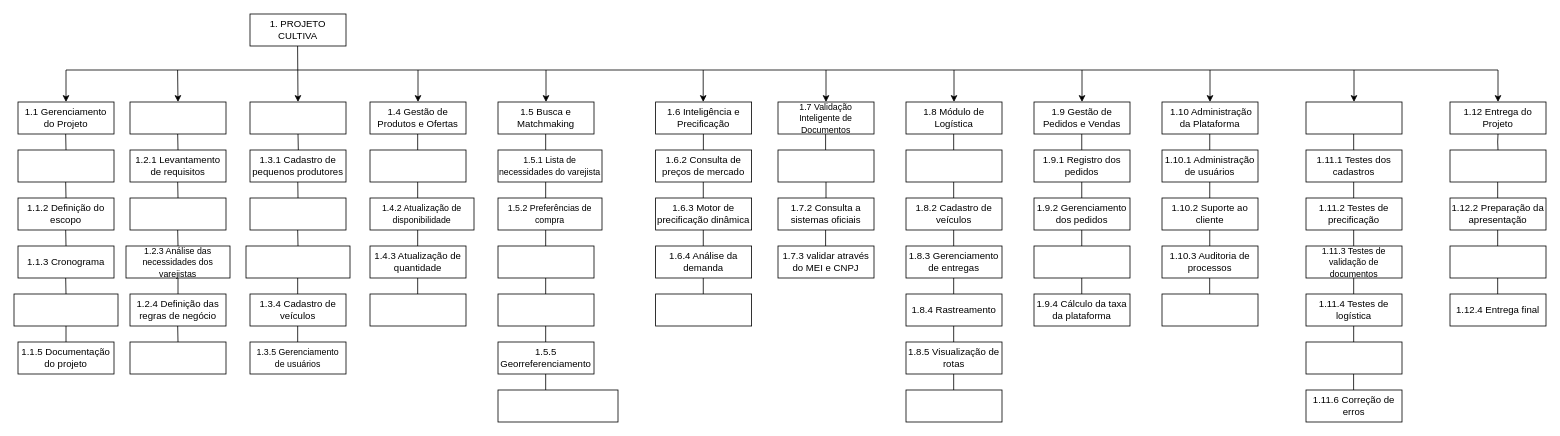
Image size: 1560x436. Some labels were removed from this diagram. The centre of each missing label's shape, as x and y in pixels:
"1.1.1 Planejamento do projeto" belongs at (65,165).
"1.1.4 Acompanhamento do projeto" belongs at (65,309).
"1.10.4 Controle administrativo" belongs at (1209,309).
"1.11 Testes e Validação" belongs at (1353,117).
"1.11.5 Testes administrativos" belongs at (1353,357).
"1.12.1 Documentação" belongs at (1497,165).
"1.12.3 Apresentação do projeto" belongs at (1497,261).
"1.2 Levantamento e Análise" belongs at (177,117).
"1.2.2 Análise das necessidades dos produtores" belongs at (177,213).
"1.2.5 Definição da arquitetura da solução" belongs at (177,357).
"1.3 Cadastro e Usuários" belongs at (297,117).
"1.3.2 Cadastro de varejistas" belongs at (297,213).
"1.3.3 Cadastro de prestadores de transporte" belongs at (297,261).
"1.4.1 Cadastro de produtos" belongs at (417,165).
"1.4.4 Consulta de produtos" belongs at (417,309).
"1.5.3 Filtros por tipo de produto" belongs at (545,261).
"1.5.4 Filtros por localização" belongs at (545,309).
"1.5.6 Correspondência entre oferta e demanda" belongs at (557,405).
"1.6.5 Previsão de oportunidades de venda" belongs at (703,309).
"1.7.1 Análise dos documentos" belongs at (825,165).
"1.8.1 Cadastro de transportadores" belongs at (953,165).
"1.8.6 Otimização de rotas" belongs at (953,405).
"1.9.3 Conclusão da venda" belongs at (1081,261).
